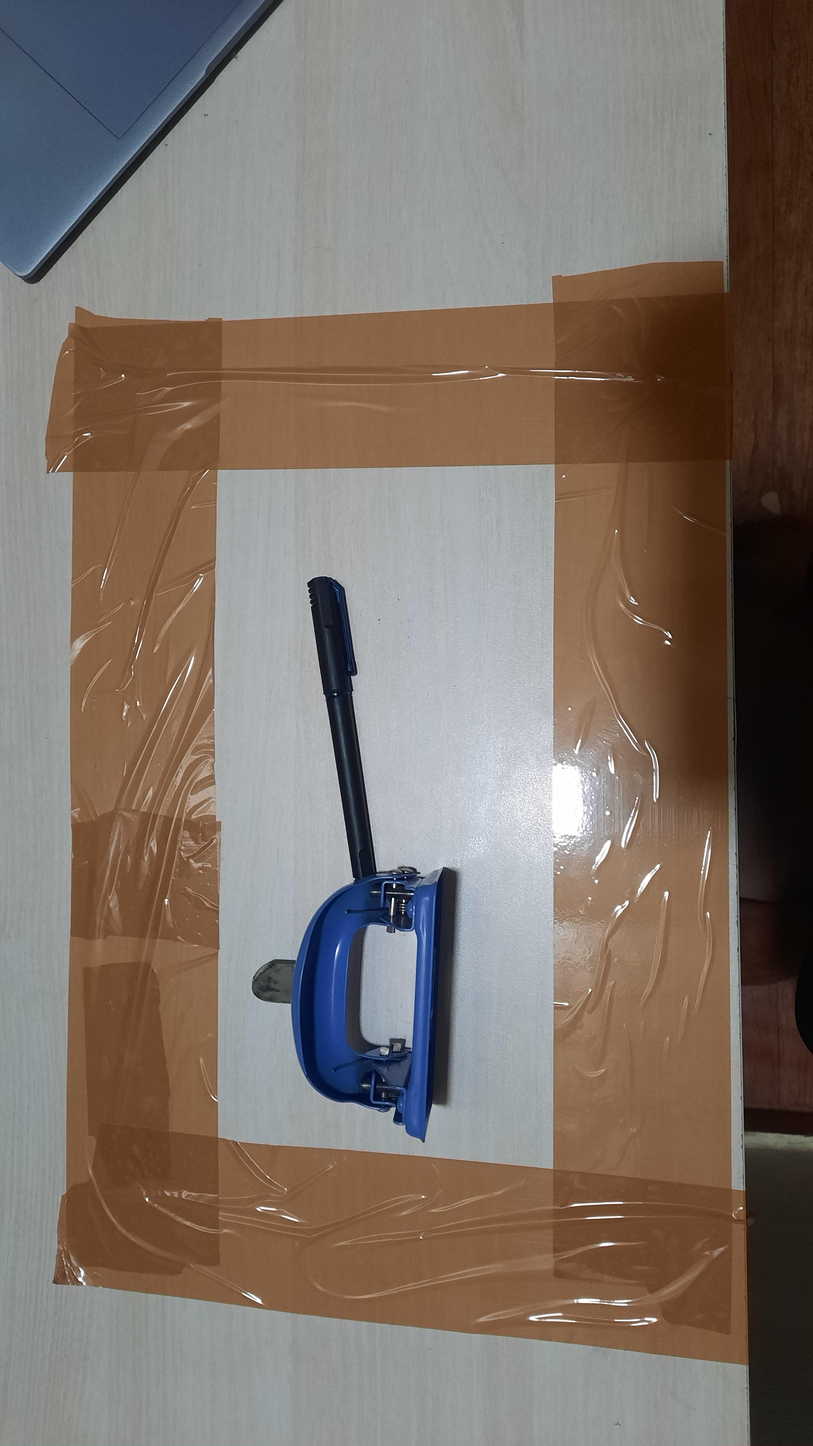Pen: (307, 576, 377, 881)
Punch: (251, 866, 455, 1142)
